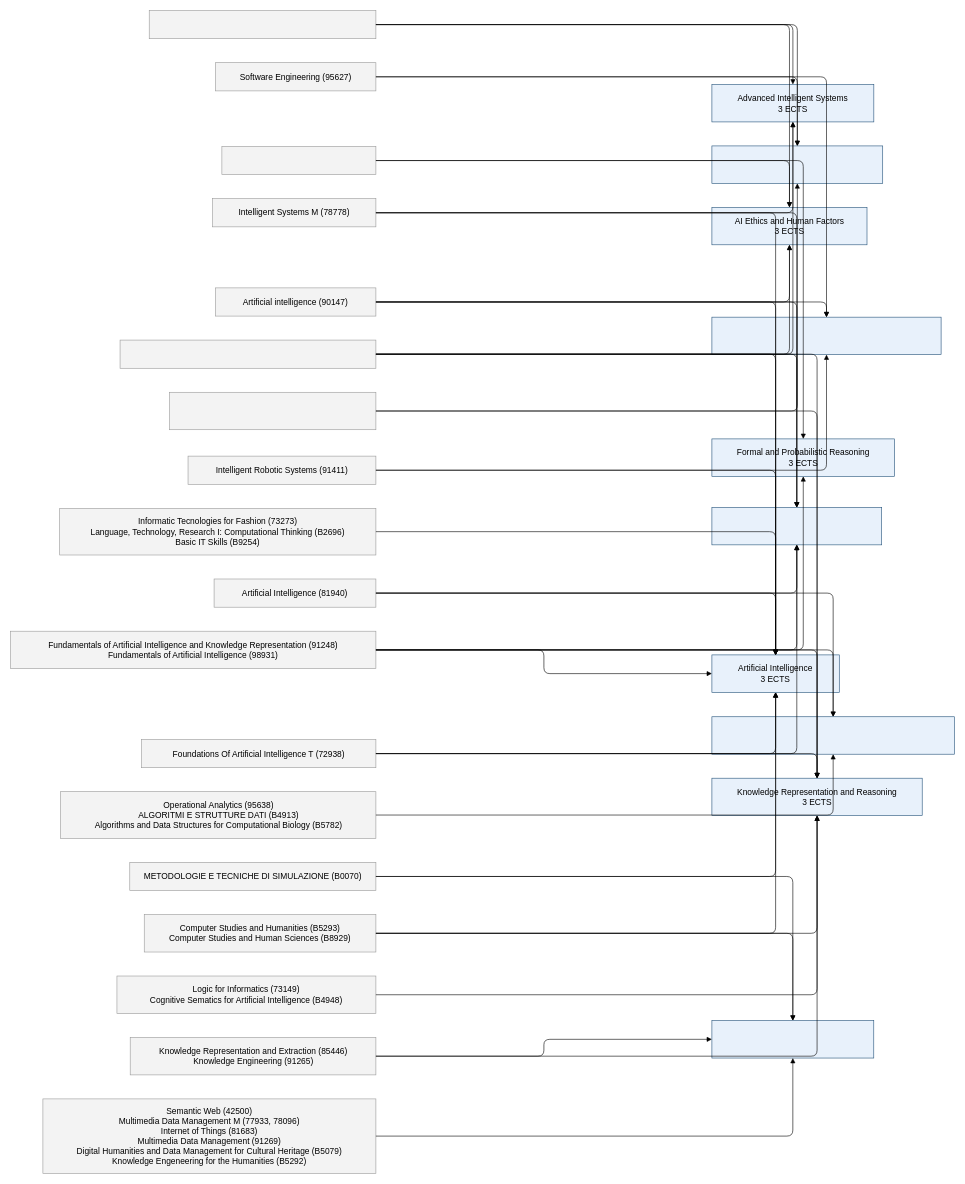
This 965x1184 diagram has some shape labels left out. The centre of each missing label's shape, as x and y in pixels:
"Artificial Intelligence for Digital Innovation (B0069)" belongs at [247,353].
"Autonomous and Adaptive Systems M (92858)" belongs at [262,24].
"Human Data Science (93469)" belongs at [298,160].
"Multi-Agent System Engineering 3 ECTS" belongs at [797,164].
"Multi-Agent Systems (91267) Intelligent Systems Engineering (93669)" belongs at [272,411].
"Planning and Constraint Solving 3 ECTS" belongs at [796,526].
"Robotics and Intelligent Systems Foundations 3 ECTS" belongs at [826,336].
"Search and Human-Centered Algorithmic Systems 3 ECTS" belongs at [832,735].
"Semantic Web and Social Data 3 ECTS" belongs at [792,1039].
